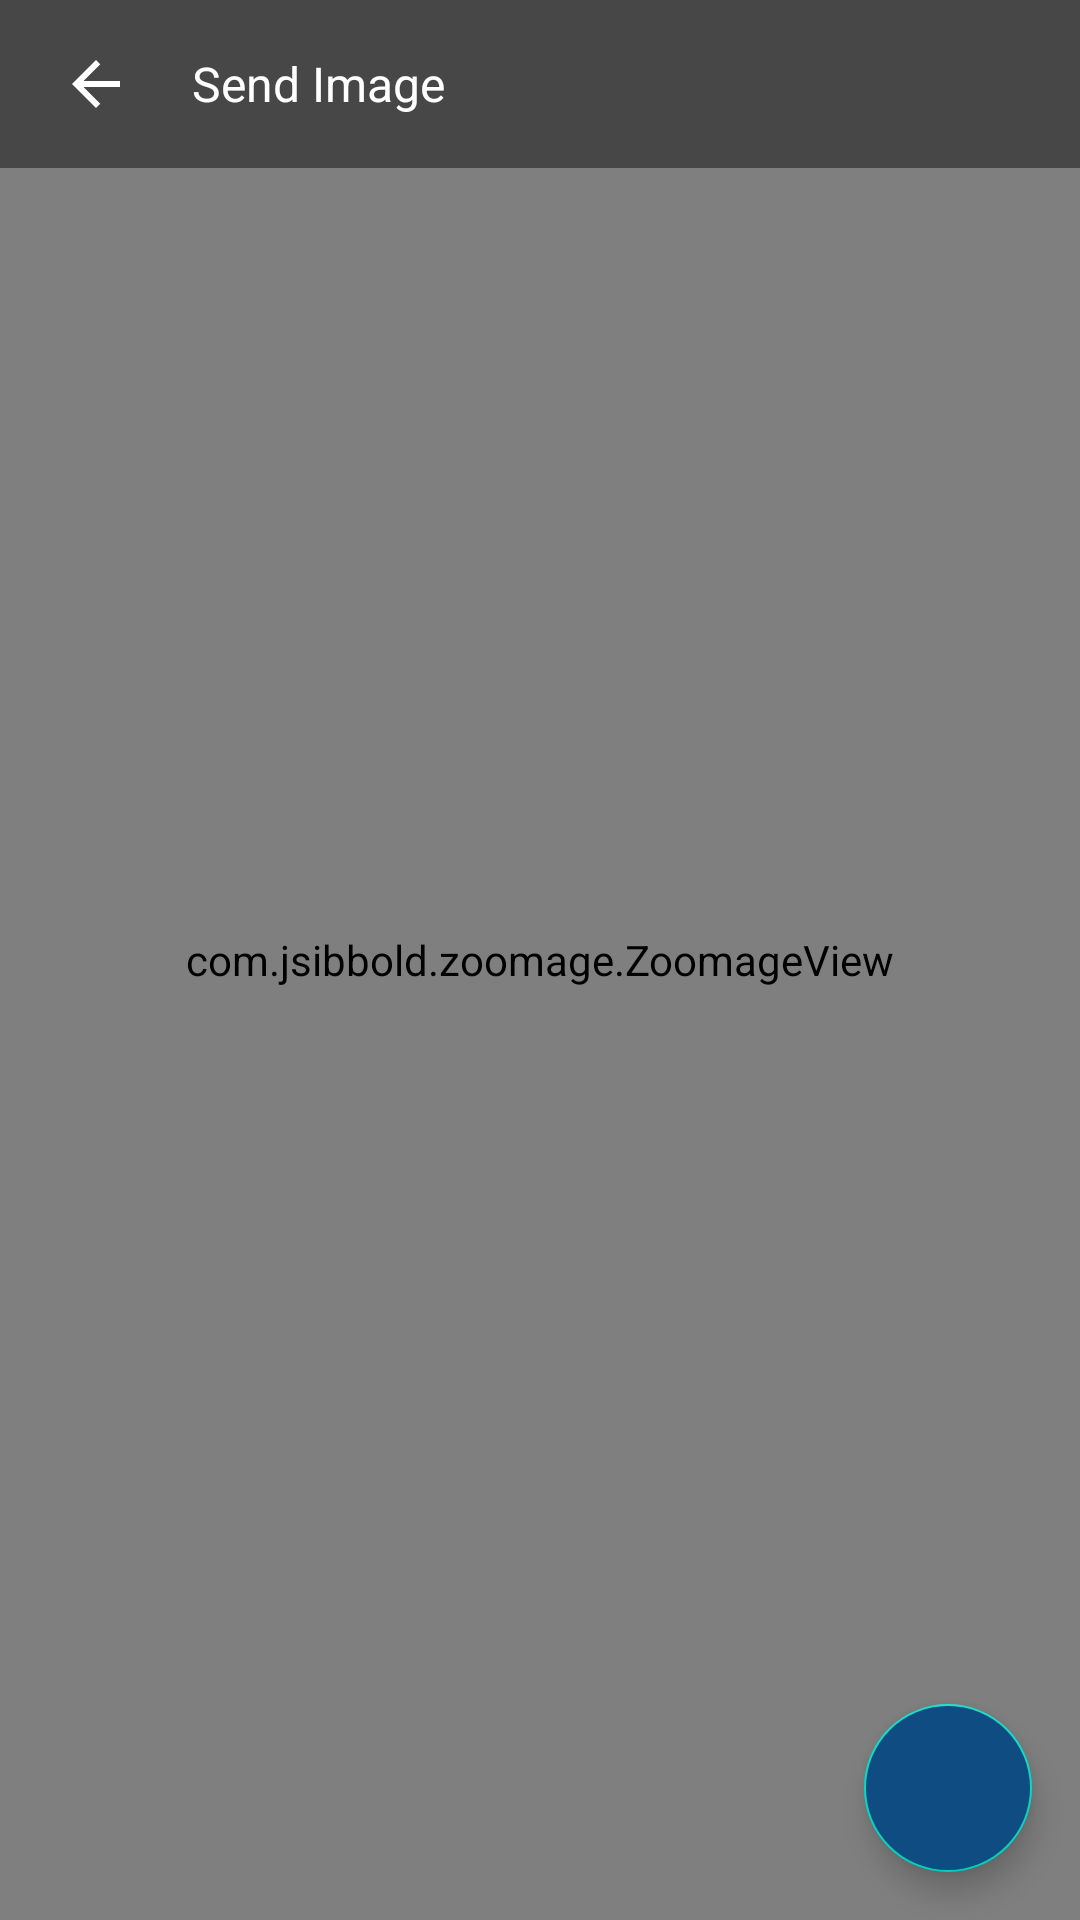

Named icons in this screenshot (1080px x 1920px) and their bounding boxes, (x1, y1, x2, y2):
arrow back: (72, 60, 120, 108)
